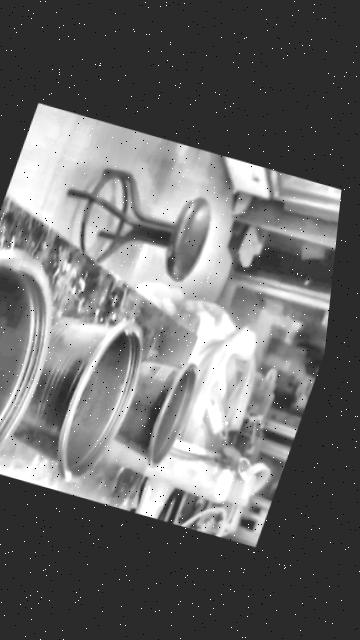pot: (0, 256, 166, 503), (107, 350, 206, 472)
